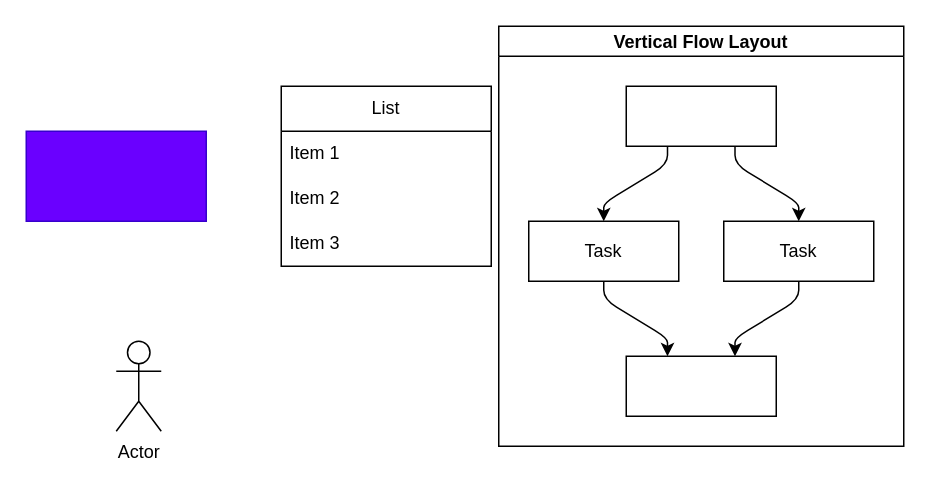
This 930x489 diagram has some shape labels left out. The shapes that lost their labels are listed below. From the top down, each one's centre as x and y in pixels, then its label:
At point 700,115: "Start".
At point 700,385: "End".
